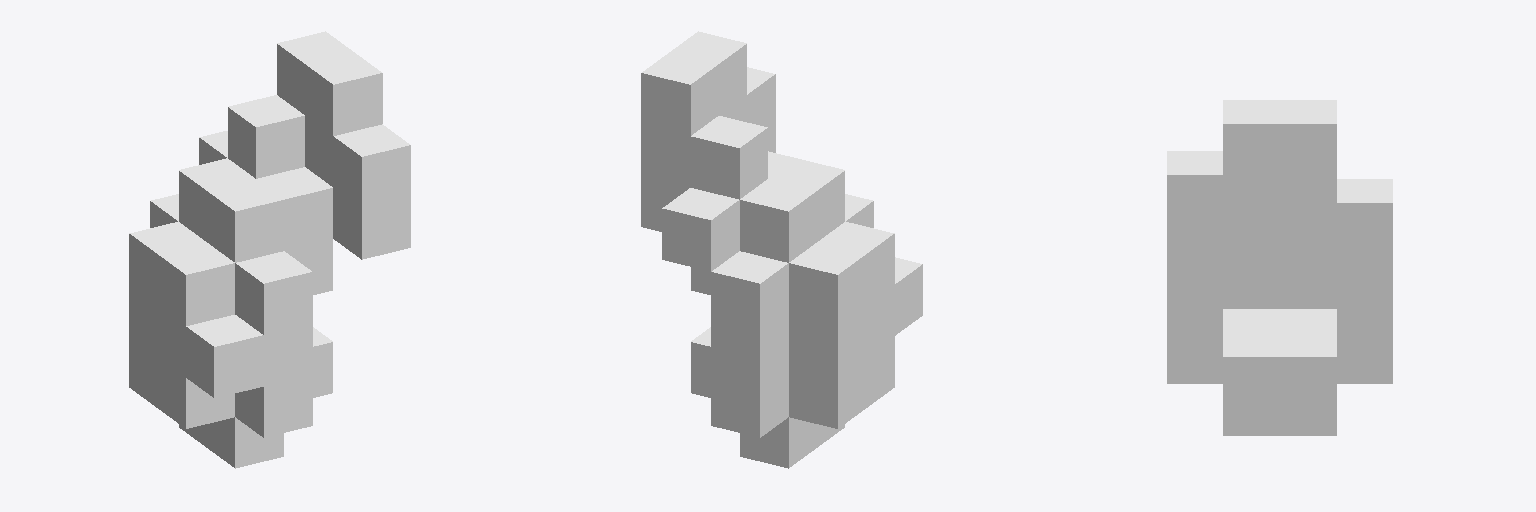
File: knight-1.obj
The picture shows the model from 3 angles: view 1: azimuth 30°, elevation 25°; view 2: azimuth 150°, elevation 25°; view 3: azimuth 270°, elevation 25°; orthographic projection.
Parts seen in each view (by area): view 1: object 1; view 2: object 1; view 3: object 1.
Boxes of the visible parts, x1=… form: object 1: x1=129, y1=31, x2=410, y2=468; object 1: x1=641, y1=31, x2=922, y2=468; object 1: x1=1167, y1=100, x2=1392, y2=435.
Bounding box in the file's own units: 0.4 × 0.7 × 0.4.